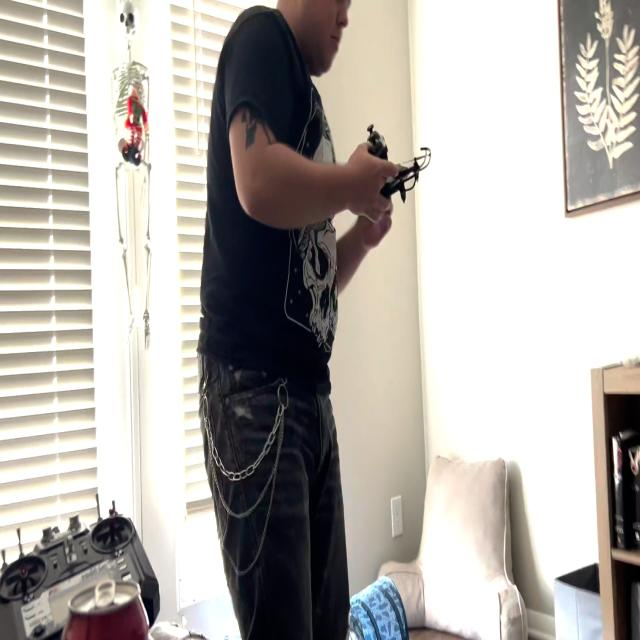drone: (366, 135, 436, 211)
